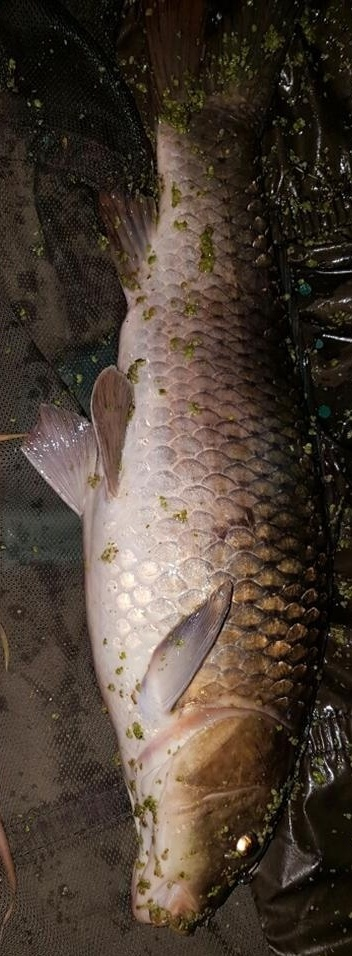Cyprinus carpio: (20, 1, 332, 936)
